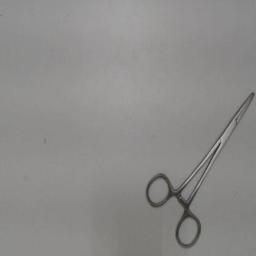Mayo Needle Holder: (141, 85, 255, 253)
